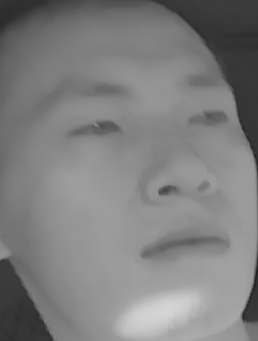eye: (62, 111, 125, 150), (182, 100, 239, 135)
mouth: (136, 219, 231, 275)
